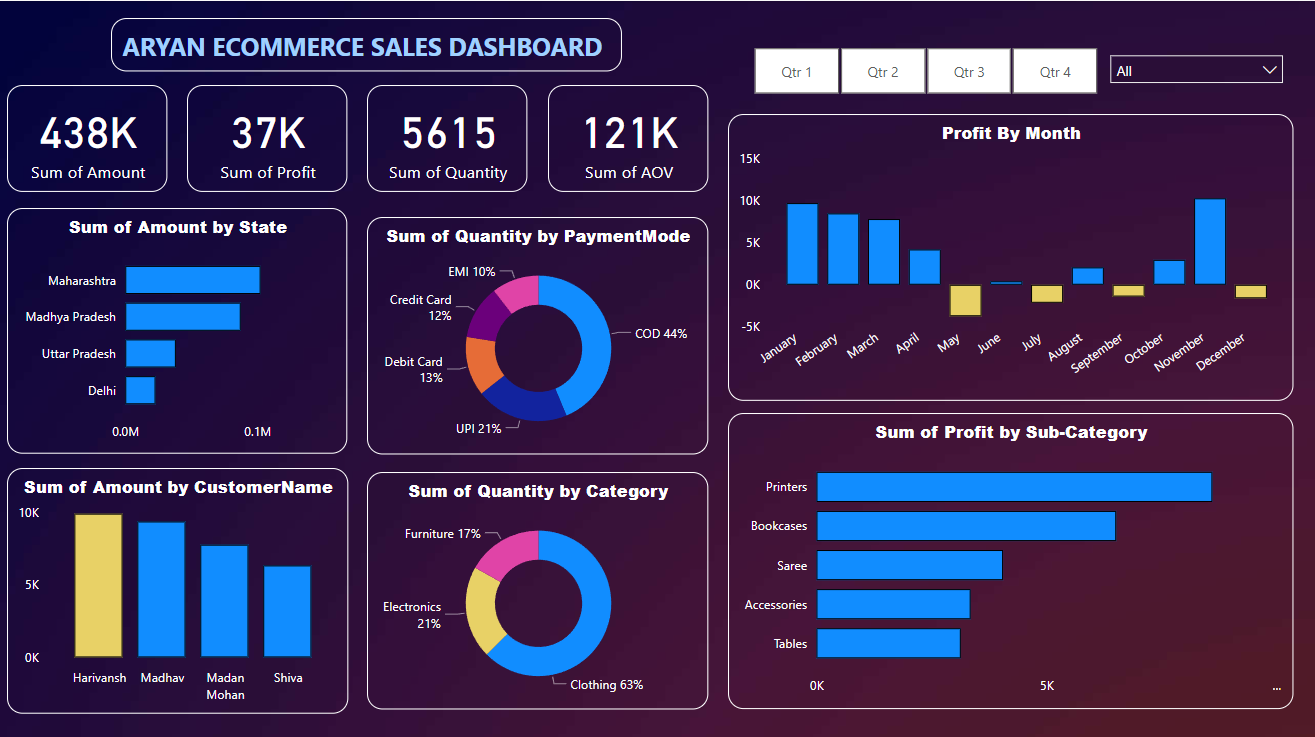

What the dashboard file says about the page in this screenshot:
{"tool":"powerbi","page":{"name":"Page 1","canvas":[1280,720],"ordinal":0},"visuals":[{"type":"textbox","box":[108.9,16.5,497,51.6],"z":0},{"type":"columnChart","title":"Profit By Month","fields":{"Category":["Orders.Order Date.Variation.Date Hierarchy.Month"],"Y":["Details.Profit"]},"box":[709.1,109.9,549.5,279.1],"z":1000},{"type":"barChart","fields":{"Category":["Details.Sub-Category"],"Y":["Details.Profit"]},"box":[709.1,400.7,549.5,287.9],"z":2000},{"type":"donutChart","fields":{"Y":["Details.Quantity"],"Category":["Details.Category"]},"box":[358.2,458.4,331.6,230.5],"z":3000},{"type":"donutChart","fields":{"Y":["Details.Quantity"],"Category":["Details.PaymentMode"]},"box":[358.2,210.1,331.6,230.5],"z":4000},{"type":"card","fields":{"Values":["Details.AOV"]},"box":[533.8,81.6,156.1,103.7],"z":4001},{"type":"card","fields":{"Values":["Details.Profit"]},"box":[182.7,81.6,156.1,103.7],"z":4002},{"type":"card","fields":{"Values":["Details.Quantity"]},"box":[358.2,81.6,156.1,103.7],"z":4003},{"type":"card","fields":{"Values":["Details.Amount"]},"box":[8,81.6,156.1,103.7],"z":4004},{"type":"barChart","fields":{"Category":["Orders.State"],"Y":["Details.Amount"]},"box":[8,201.3,330.7,239.4],"z":4005},{"type":"columnChart","fields":{"Category":["Orders.CustomerName"],"Y":["Details.Amount"]},"box":[7.8,454.2,331.7,239.3],"z":4006},{"type":"slicer","fields":{"Values":["Orders.Order Date.Variation.Date Hierarchy.Quarter"]},"box":[709.1,38.9,383.2,58.4],"z":4007},{"type":"slicer","fields":{"Values":["Orders.State"]},"box":[1070.9,42.8,187.7,54.5],"z":4008}]}

Visuals, with their boxes in screenshot pixels (x1, y1, x2, y2), scaled from the page's 1280x720 canvas onto the 1315x737 screenshot:
textbox: locate(112, 17, 622, 70)
"Profit By Month" columnChart: locate(728, 112, 1293, 398)
barChart - Details.Sub-Category x Details.Profit: locate(728, 410, 1293, 705)
donutChart - Details.Quantity x Details.Category: locate(368, 469, 709, 705)
donutChart - Details.Quantity x Details.PaymentMode: locate(368, 215, 709, 451)
card - Details.AOV: locate(548, 84, 709, 190)
card - Details.Profit: locate(188, 84, 348, 190)
card - Details.Quantity: locate(368, 84, 528, 190)
card - Details.Amount: locate(8, 84, 169, 190)
barChart - Orders.State x Details.Amount: locate(8, 206, 348, 451)
columnChart - Orders.CustomerName x Details.Amount: locate(8, 465, 349, 710)
slicer - Orders.Order Date.Variation.Date Hierarchy.Quarter: locate(728, 40, 1122, 100)
slicer - Orders.State: locate(1100, 44, 1293, 100)
